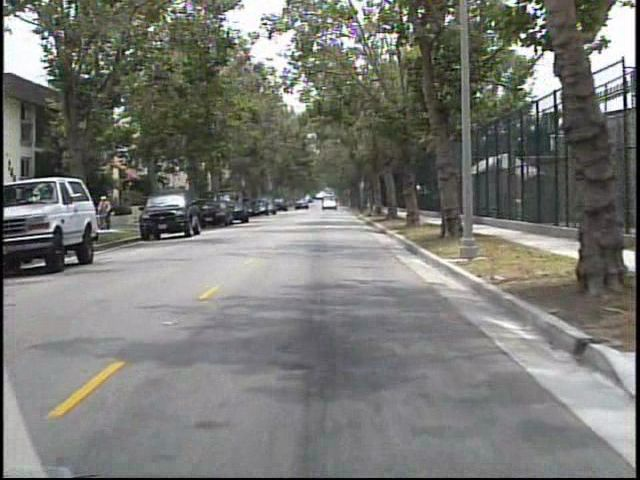person: (97, 192, 117, 234)
